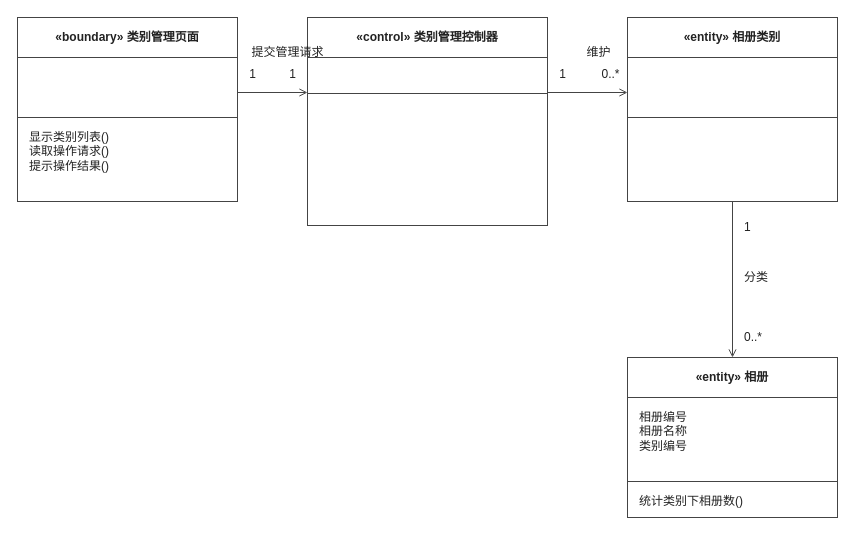
The diagram is 855 pixels wide and 535 high, and some of its shapes have lost their labels. Here are the shapes that lost their labels. From the top down, the centre of each, then its label:
At [127,87]: "类别列表 类别表单".
At [732,87]: "类别编号 类别名称".
At [427,159]: "校验类别名称() 检查类别占用() 添加类别() 修改类别() 删除类别()".
At [732,159]: "保存() 更新() 删除()".
